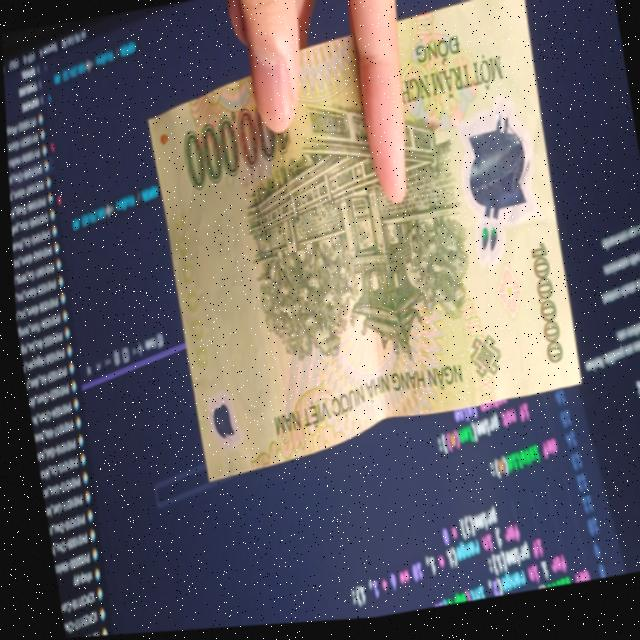100 000 VND: (124, 0, 591, 494)
